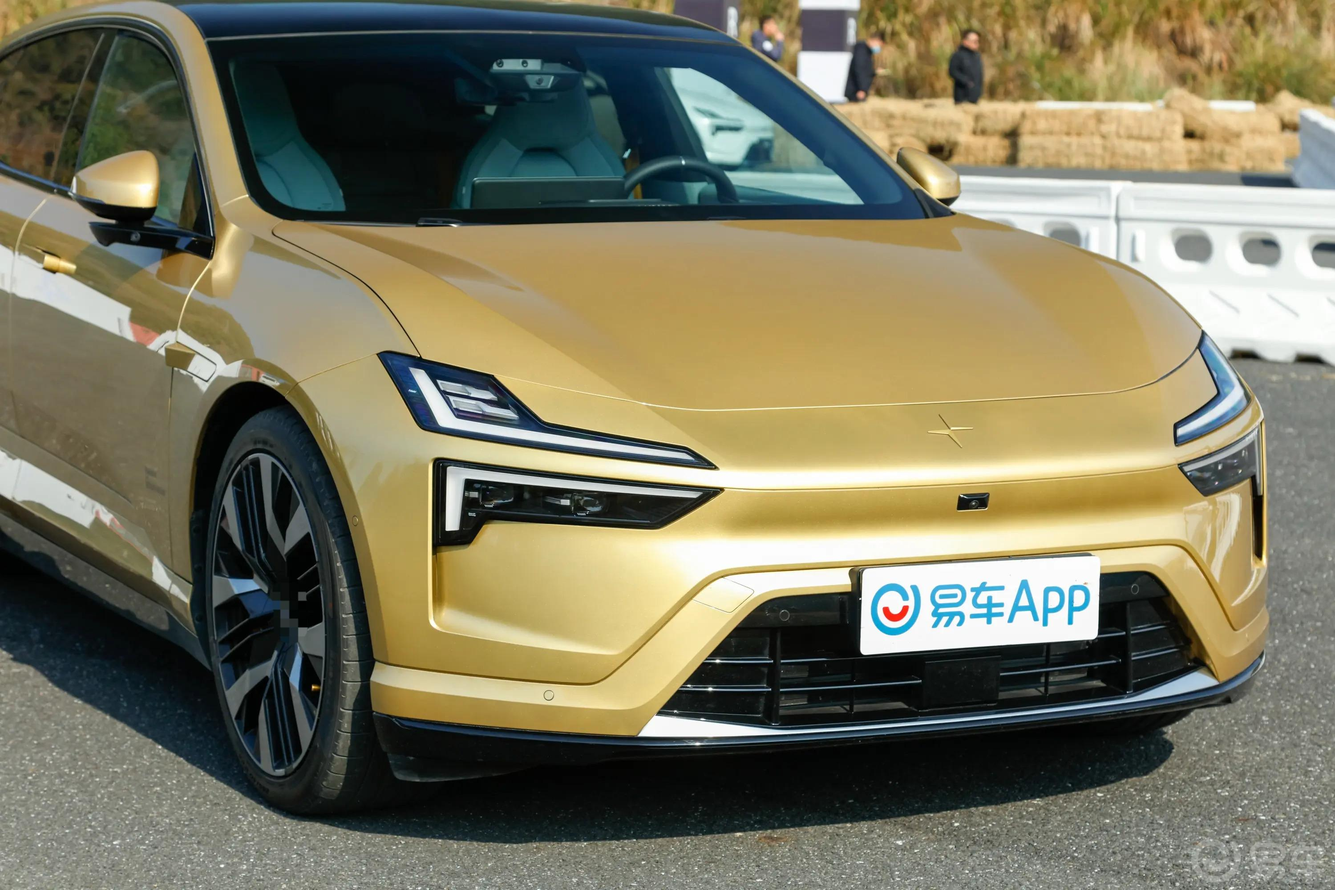Polestar: (927, 413, 973, 447)
